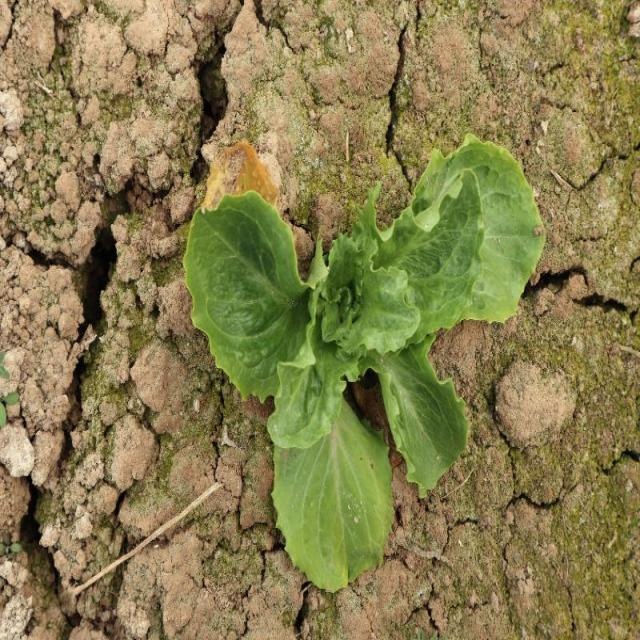crop: (187, 138, 546, 591)
